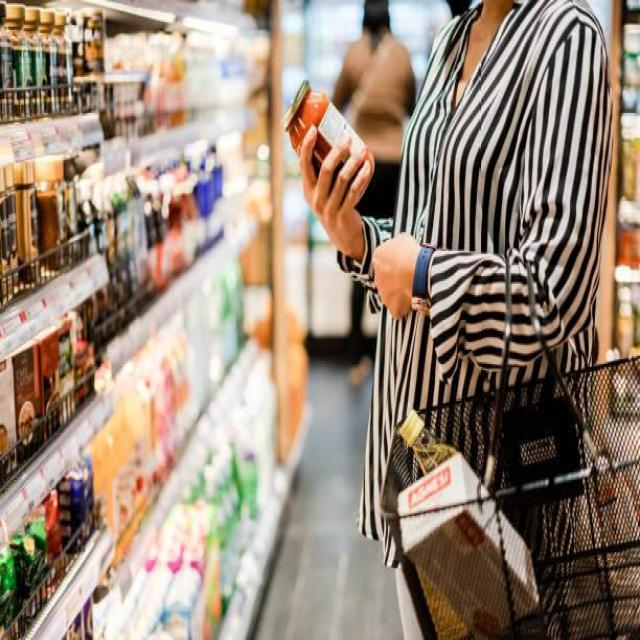article: (282, 80, 373, 168)
hands: (299, 127, 369, 257), (372, 234, 419, 317)
person: (304, 0, 611, 565)
